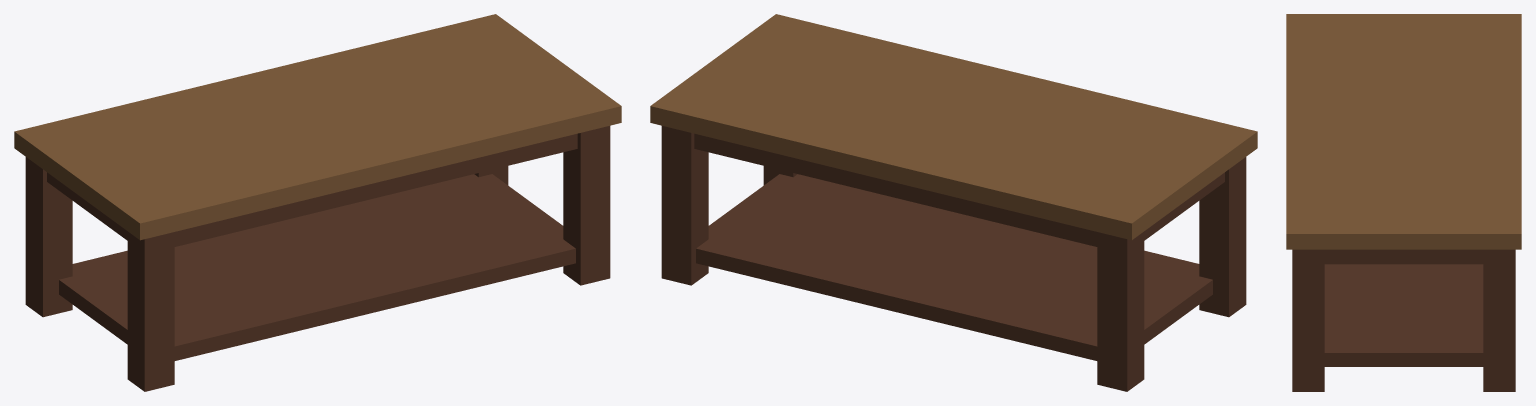
Rendered from Table_5B.fbx.
The picture shows the model from 3 angles, left to right: view 1: azimuth 30°, elevation 25°; view 2: azimuth 150°, elevation 25°; view 3: azimuth 270°, elevation 25°; orthographic projection. The views are drawn at different scales.
Visible parts, largest first — view 1: polySurface1734; view 2: polySurface1734; view 3: polySurface1734.
Part boxes in pixels (bbox=[...]): polySurface1734: bbox=[14, 14, 621, 391]; polySurface1734: bbox=[650, 14, 1257, 391]; polySurface1734: bbox=[1286, 14, 1521, 391].
Bounding box in the file's own units: 2.1 × 0.72 × 0.95.
1 material, 1 textured.
